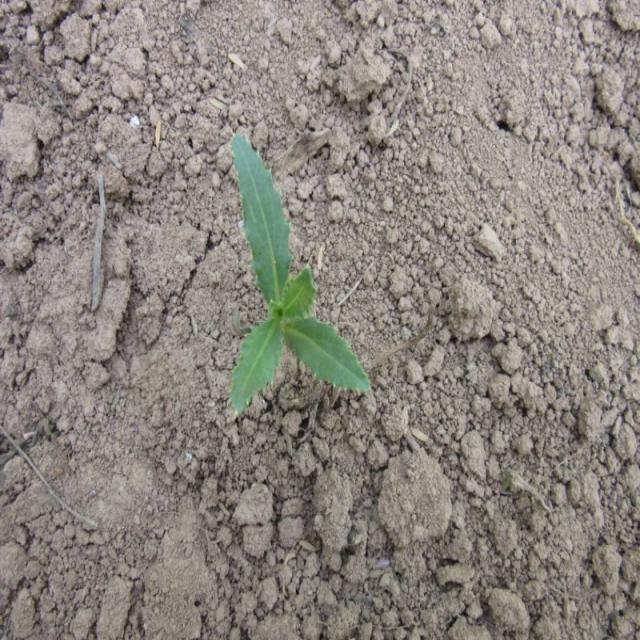field_thistle: (192, 131, 398, 462)
